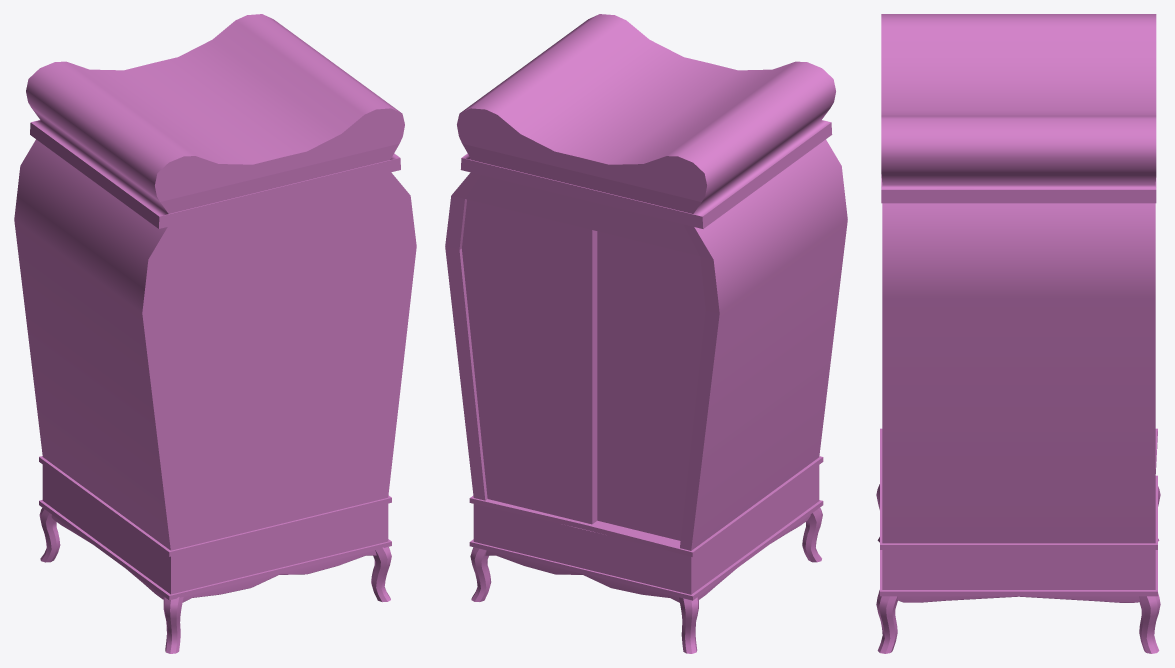
File: BgMD_closet_curve (4).fbx
The picture shows the model from 3 angles, left to right: view 1: azimuth 30°, elevation 25°; view 2: azimuth 150°, elevation 25°; view 3: azimuth 270°, elevation 25°; orthographic projection. The views are drawn at different scales.
Visible parts, largest first — view 1: Bg_closet_curve; view 2: Bg_closet_curve, Bg_closet_curve_door1, Bg_closet_curve_door2; view 3: Bg_closet_curve.
Boxes of the visible parts, box(x1,y1,x2,y2) form: Bg_closet_curve: box(14, 14, 416, 653); Bg_closet_curve: box(445, 14, 847, 653); Bg_closet_curve_door1: box(461, 199, 597, 524); Bg_closet_curve_door2: box(597, 231, 705, 540); Bg_closet_curve: box(876, 14, 1160, 653).
Size of the model in its own units: 110 by 189 by 92.55.
